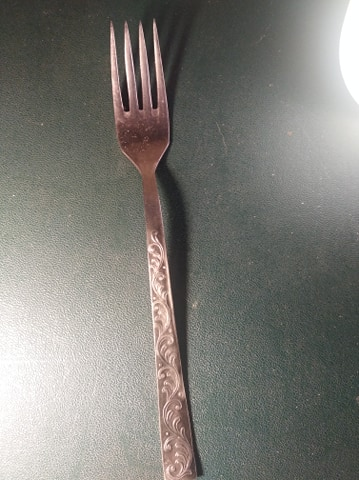Widelec: (102, 17, 175, 168)
